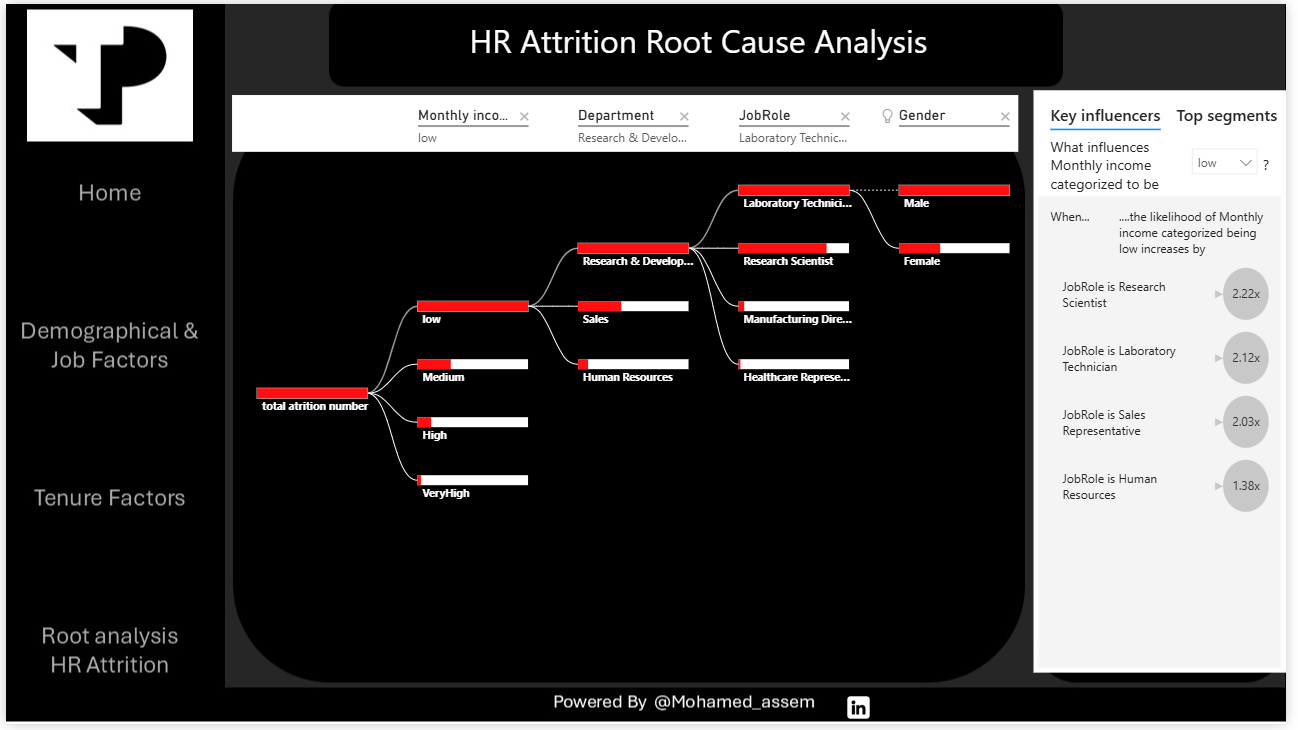

This screenshot's page, from the dashboard's own definition file:
{"tool":"powerbi","page":{"name":"Root cause analysis ","canvas":[1280,720],"ordinal":3},"visuals":[{"type":"decompositionTreeVisual","fields":{"ExplainBy":["WA_Fn-UseC_-HR-Employee-Attriti.Monthly income categorized","WA_Fn-UseC_-HR-Employee-Attriti.Department","WA_Fn-UseC_-HR-Employee-Attriti.JobRole","WA_Fn-UseC_-HR-Employee-Attriti.Gender"],"Analyze":["Dax_measures.total atrition number"]},"box":[221.2,86.2,796.2,582.5],"z":0},{"type":"shape","title":"home","box":[0,155,221.2,80],"z":0,"group":"g1"},{"type":"textbox","title":"Text Title","box":[356.2,10,681.2,53.8],"z":1000},{"type":"shape","title":"dem ","box":[0,297.5,221.2,80],"z":1000,"group":"g1"},{"type":"shape","title":"Tenure","box":[0,455,221.2,80],"z":2000,"group":"g1"},{"type":"image","title":"Linkedin","box":[812.5,687.5,80,32.5],"z":2000},{"type":"keyDriversVisual","fields":{"Target":["WA_Fn-UseC_-HR-Employee-Attriti.Monthly income categorized"],"ExplainBy":["WA_Fn-UseC_-HR-Employee-Attriti.JobRole"]},"box":[1027.5,86.2,252.5,582.5],"z":3000},{"type":"shape","title":"Root analysis","box":[0,607.5,221.2,80],"z":3000,"group":"g1"},{"type":"group","id":"g1","title":"Buttons","box":[0,155,221.2,532.5],"z":4000}]}

Visuals, with their boxes on the page's 1280x720 design canvas (x1, y1, x2, y2). These are canvas units, not pixel positions in the 1298x730 screenshot, which may show the page scaled, cropped or inside an application window:
decompositionTreeVisual - WA_Fn-UseC_-HR-Employee-Attriti.Monthly income categorized x WA_Fn-UseC_-HR-Employee-Attriti.Department: region(221, 86, 1017, 669)
"home" shape: region(0, 155, 221, 235)
"Text Title" textbox: region(356, 10, 1037, 64)
"dem " shape: region(0, 298, 221, 378)
"Tenure" shape: region(0, 455, 221, 535)
"Linkedin" image: region(812, 688, 892, 720)
keyDriversVisual - WA_Fn-UseC_-HR-Employee-Attriti.Monthly income categorized x WA_Fn-UseC_-HR-Employee-Attriti.JobRole: region(1028, 86, 1280, 669)
"Root analysis" shape: region(0, 608, 221, 688)
"Buttons" group: region(0, 155, 221, 688)
